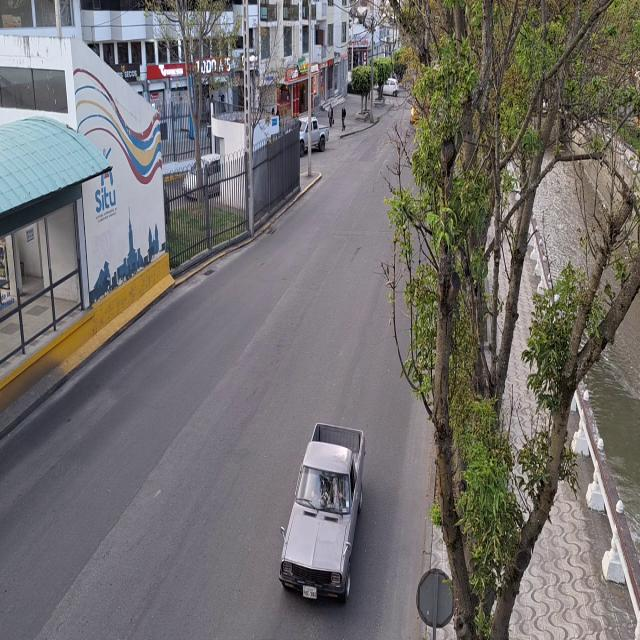CMT: (286, 422, 369, 608), (300, 118, 330, 152)
